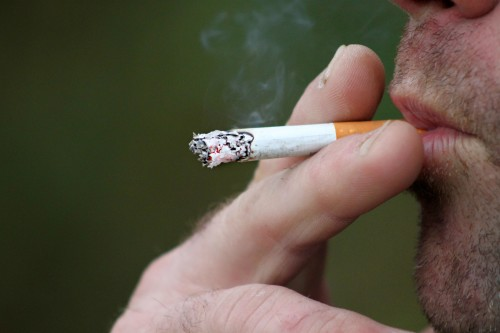cigarette: (178, 117, 427, 166)
